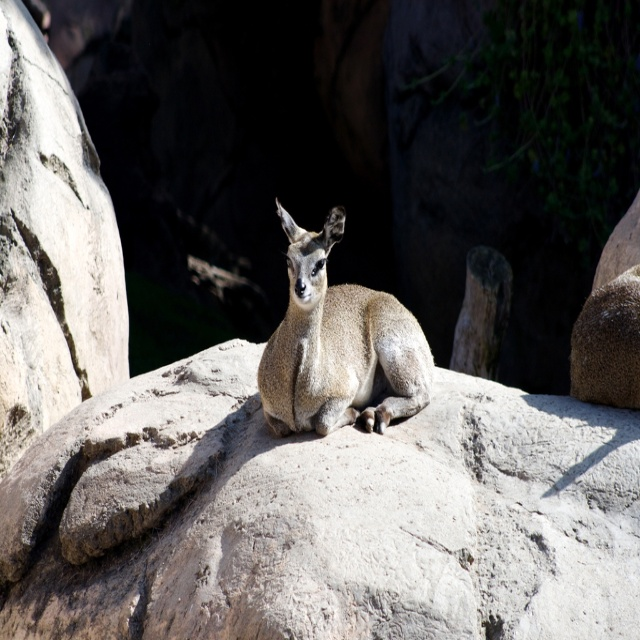Deer: (256, 195, 436, 437)
